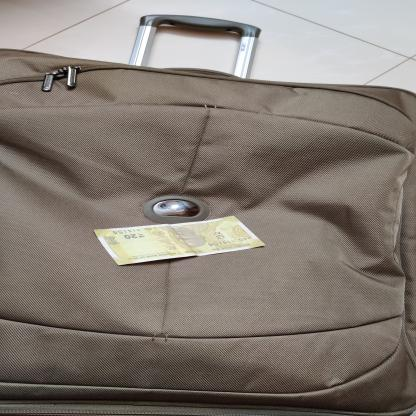New20Front: (93, 215, 266, 266)
